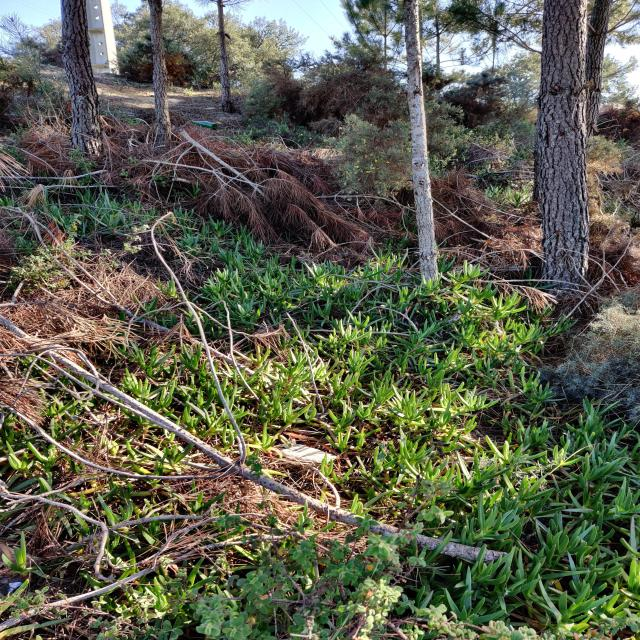litter: (275, 443, 337, 463), (190, 120, 217, 131), (7, 582, 23, 593)
